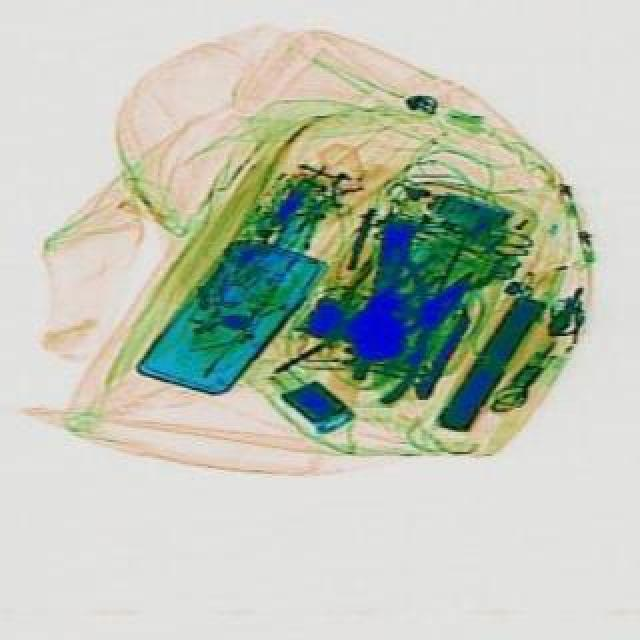wrench: (342, 254, 494, 406)
